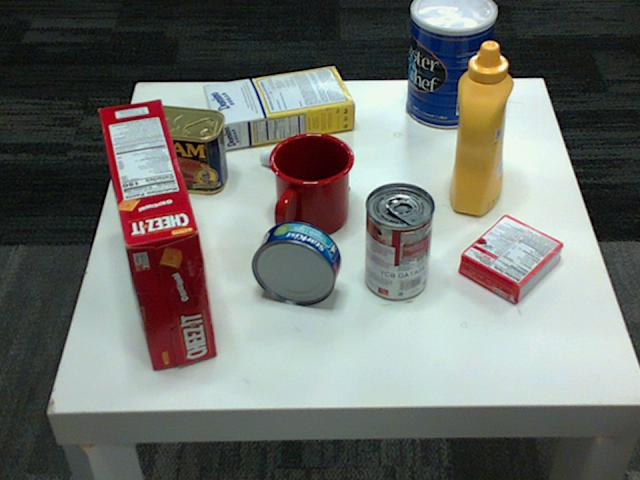cracker_box: (96, 97, 217, 367)
gelatin_box: (458, 215, 563, 303)
large_marker: (258, 151, 347, 195)
master_chef_can: (404, 0, 495, 127)
mug: (269, 129, 355, 233)
mustard_bottle: (448, 42, 513, 214)
potted_meat_can: (130, 105, 228, 193)
sugar_box: (203, 65, 355, 148)
tomato_soup_can: (365, 182, 434, 299)
tuna_fish_can: (253, 221, 342, 304)
